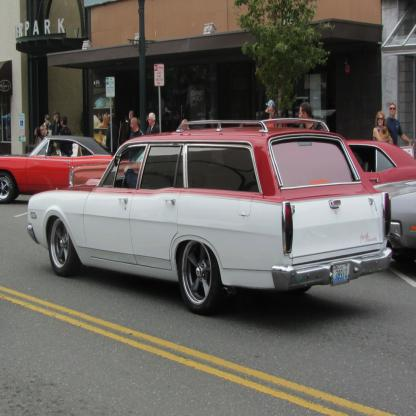Car: (0, 116, 416, 315)
